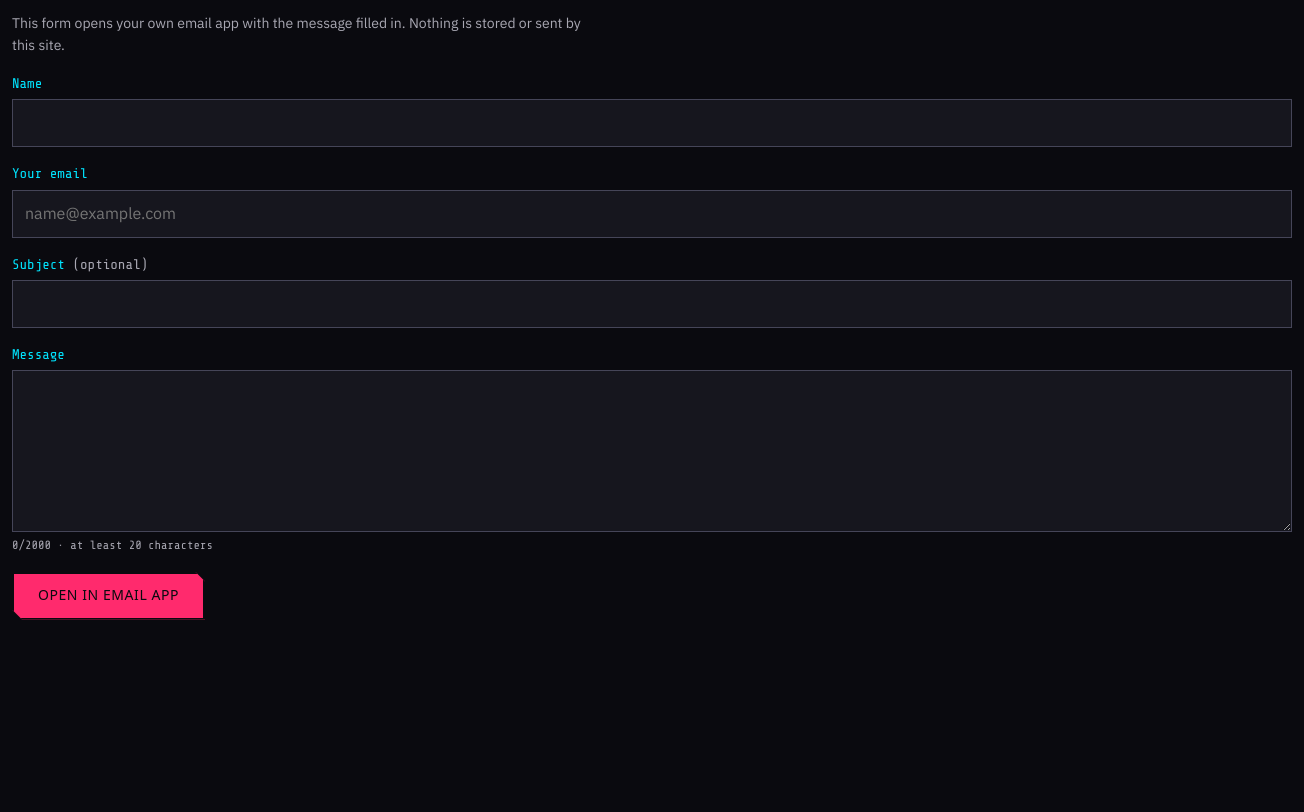
Contact form › opens the email app with a pre-filled message and says so honestly
This screenshot has width=1304, height=812.
Type "Asha" into the field labelled "Name" at (652, 123), box [12, 99, 1292, 147]
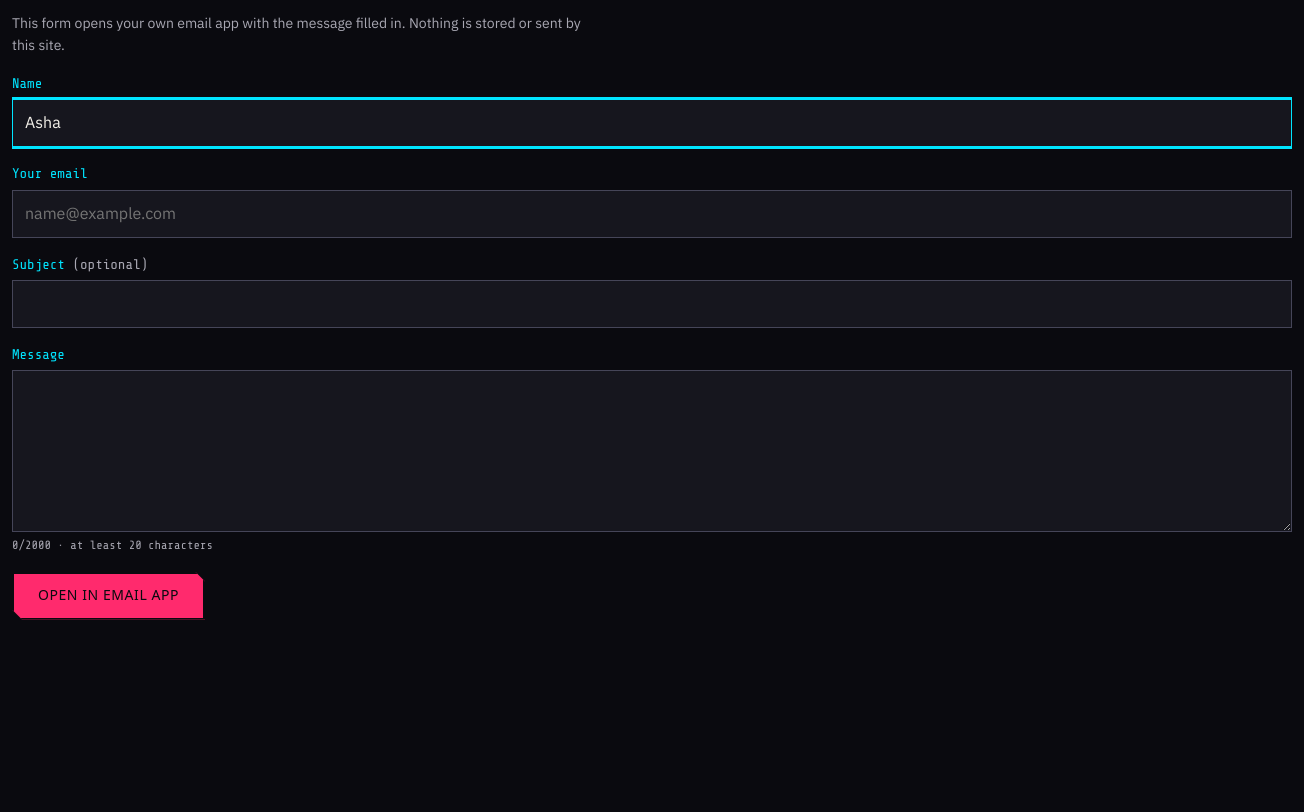
Type "asha@company.com" into the field labelled "Your email" at (652, 214), box [12, 190, 1292, 238]
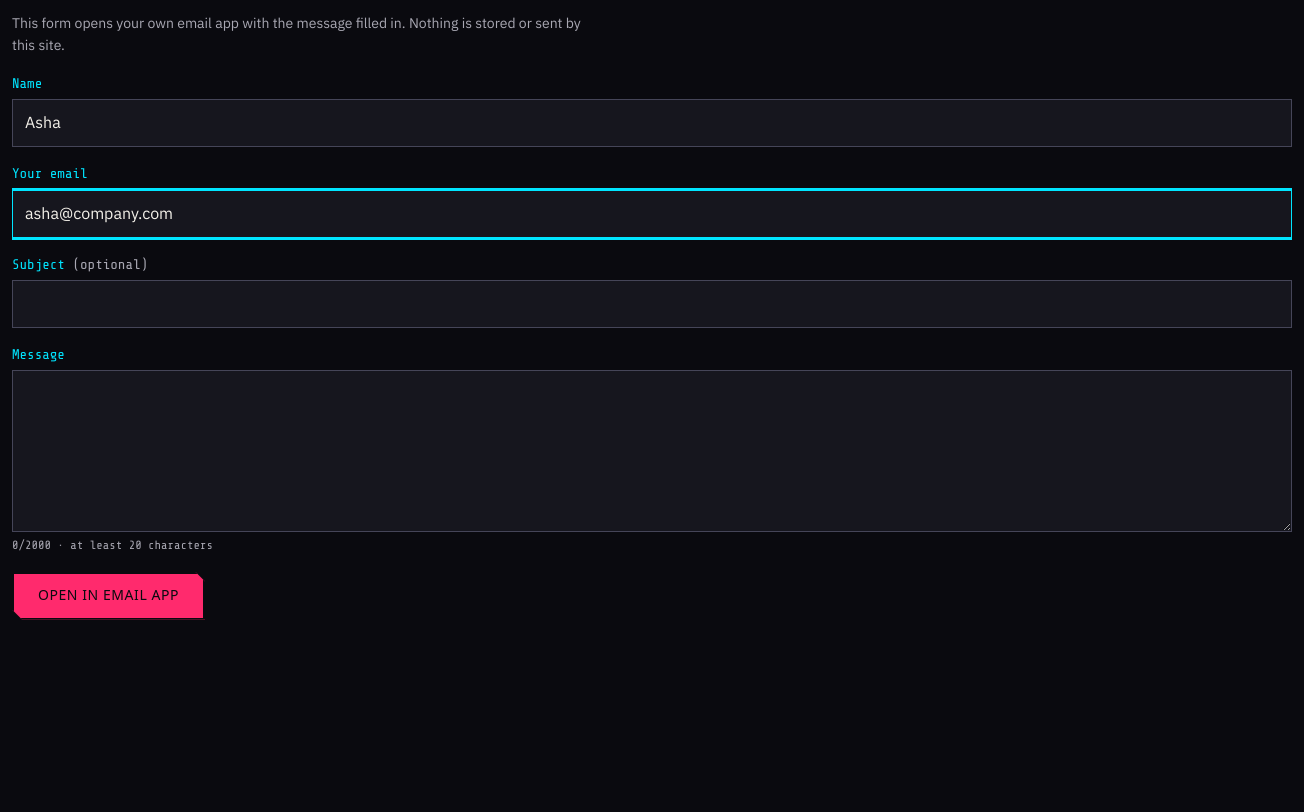
Type "We have a full stack role open." into the text box labelled "Message" at (652, 451), box [12, 370, 1292, 532]
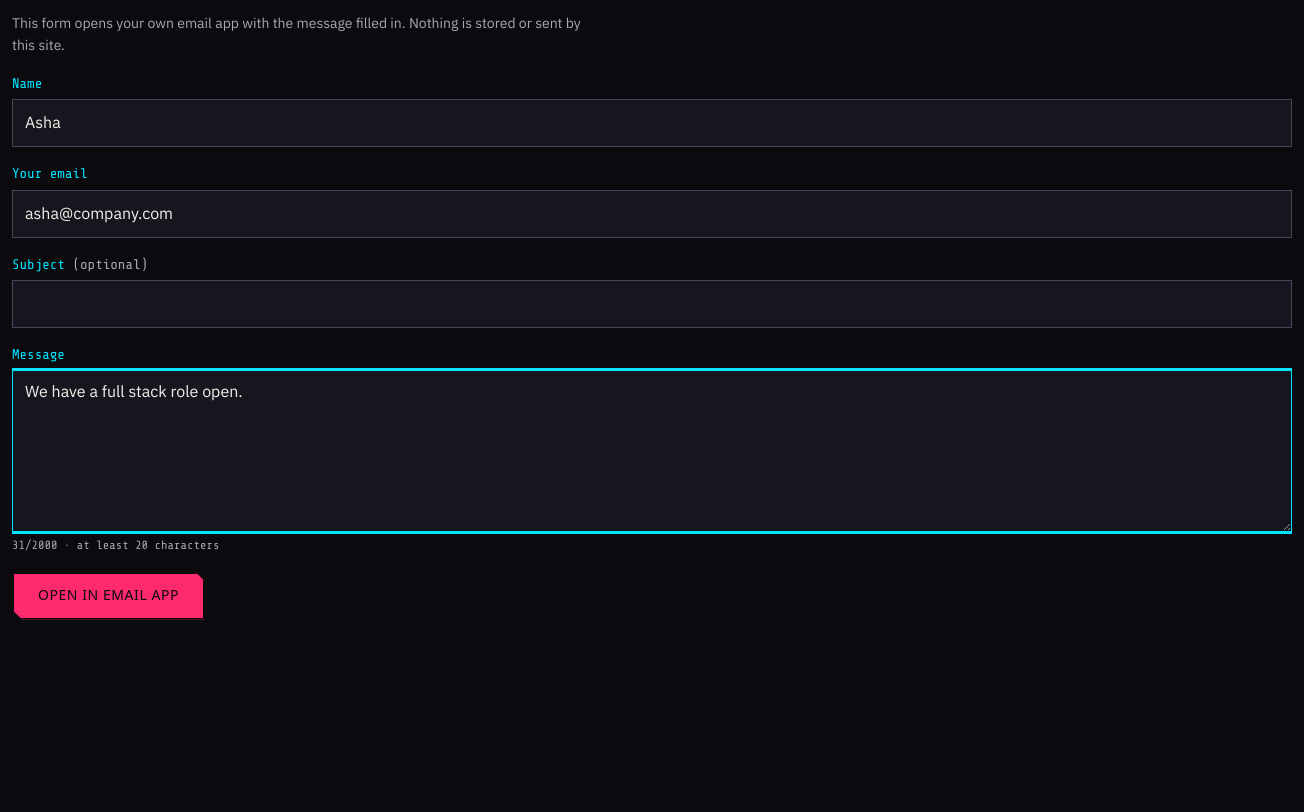
Click the button "Open in email app" at (109, 596), box [12, 572, 205, 620]
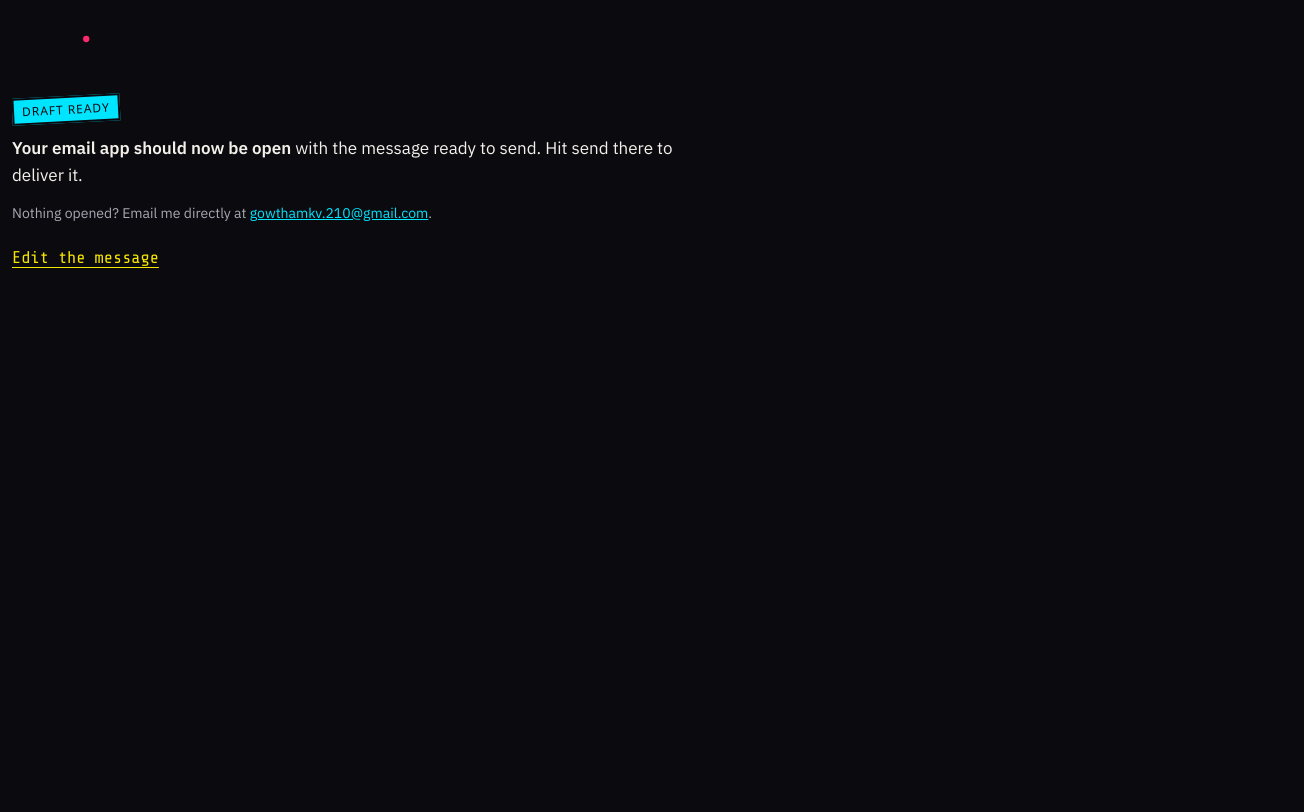
Check: the message shows "email app should now be open", box [12, 137, 291, 159]
